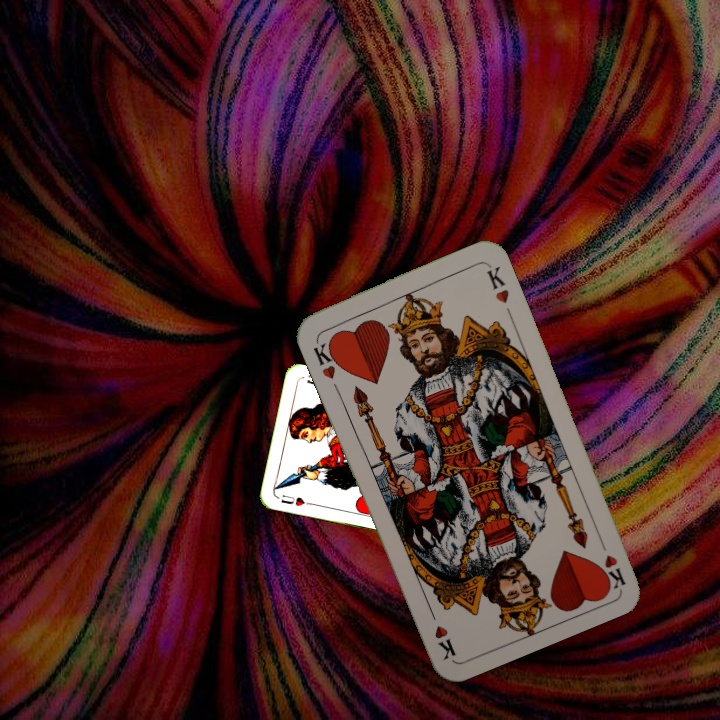HK: (594, 532, 629, 591), (309, 335, 344, 382)
HU: (277, 490, 314, 509)
